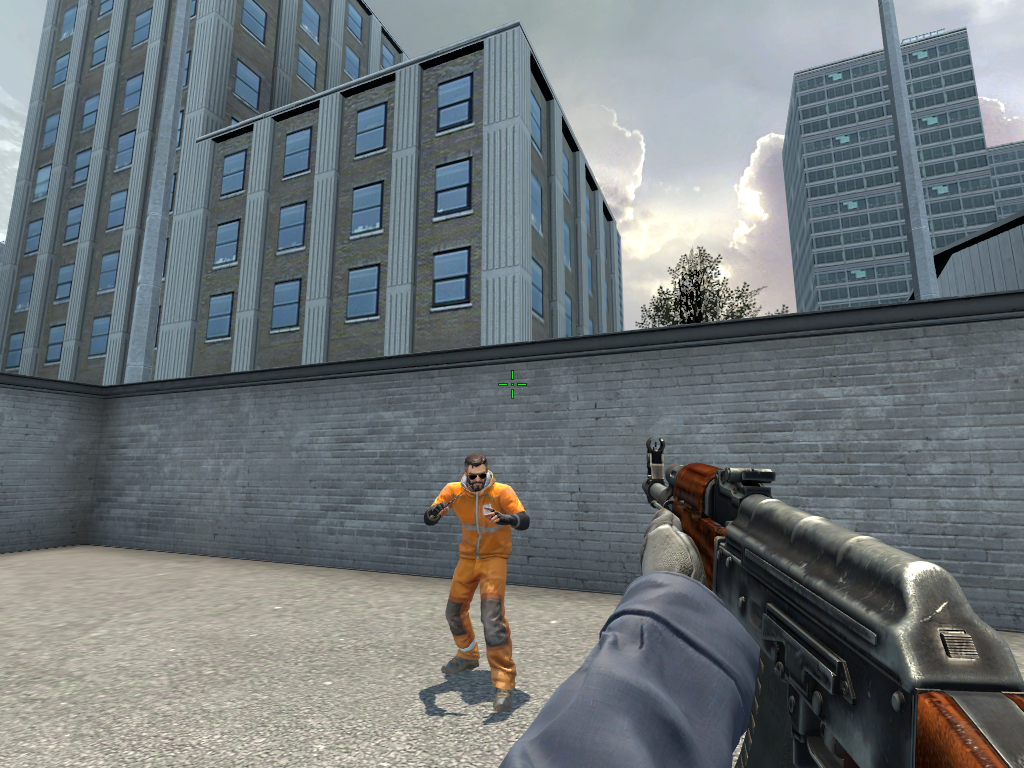tr head: (466, 455, 487, 489)
